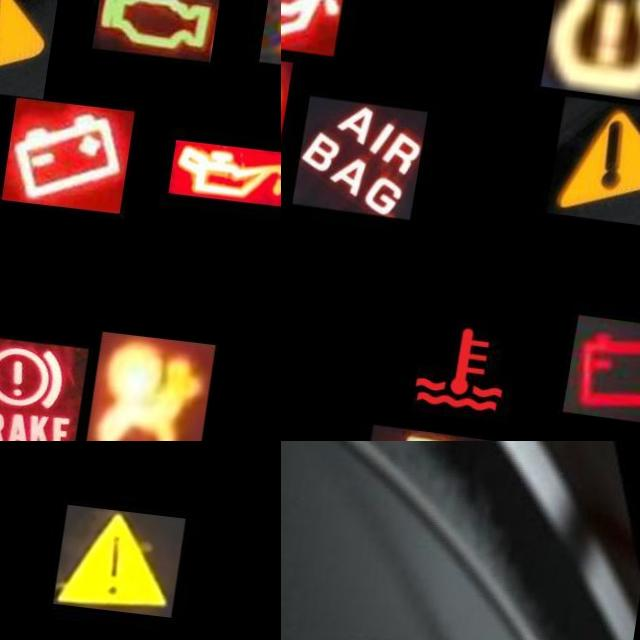Central Warning lamp: (60, 498, 190, 608), (555, 84, 640, 214), (0, 0, 64, 95)
Engine cooling system: (410, 292, 544, 423)
